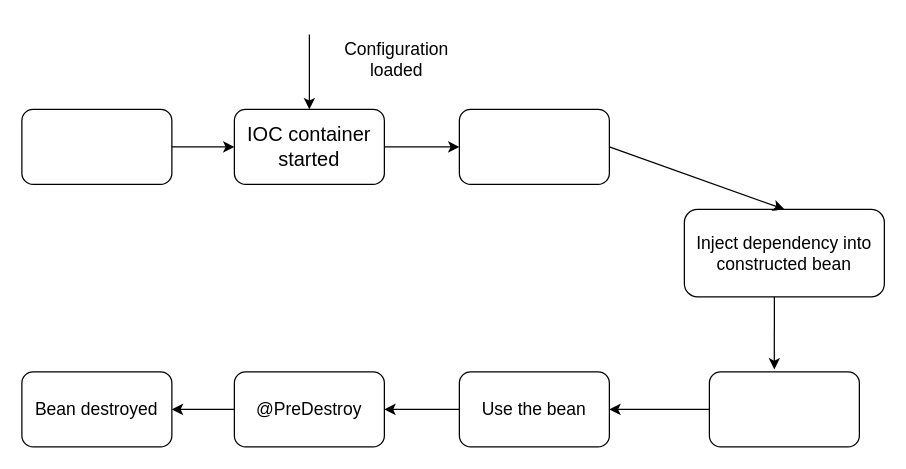
The diagram is 906 pixels wide and 469 high, and some of its shapes have lost their labels. Each missing label, with the centre of its shape:
"@PostConstruct" belongs at pixel 783 409.
"Application start" belongs at pixel 96 146.
"Construct bean" belongs at pixel 533 146.
